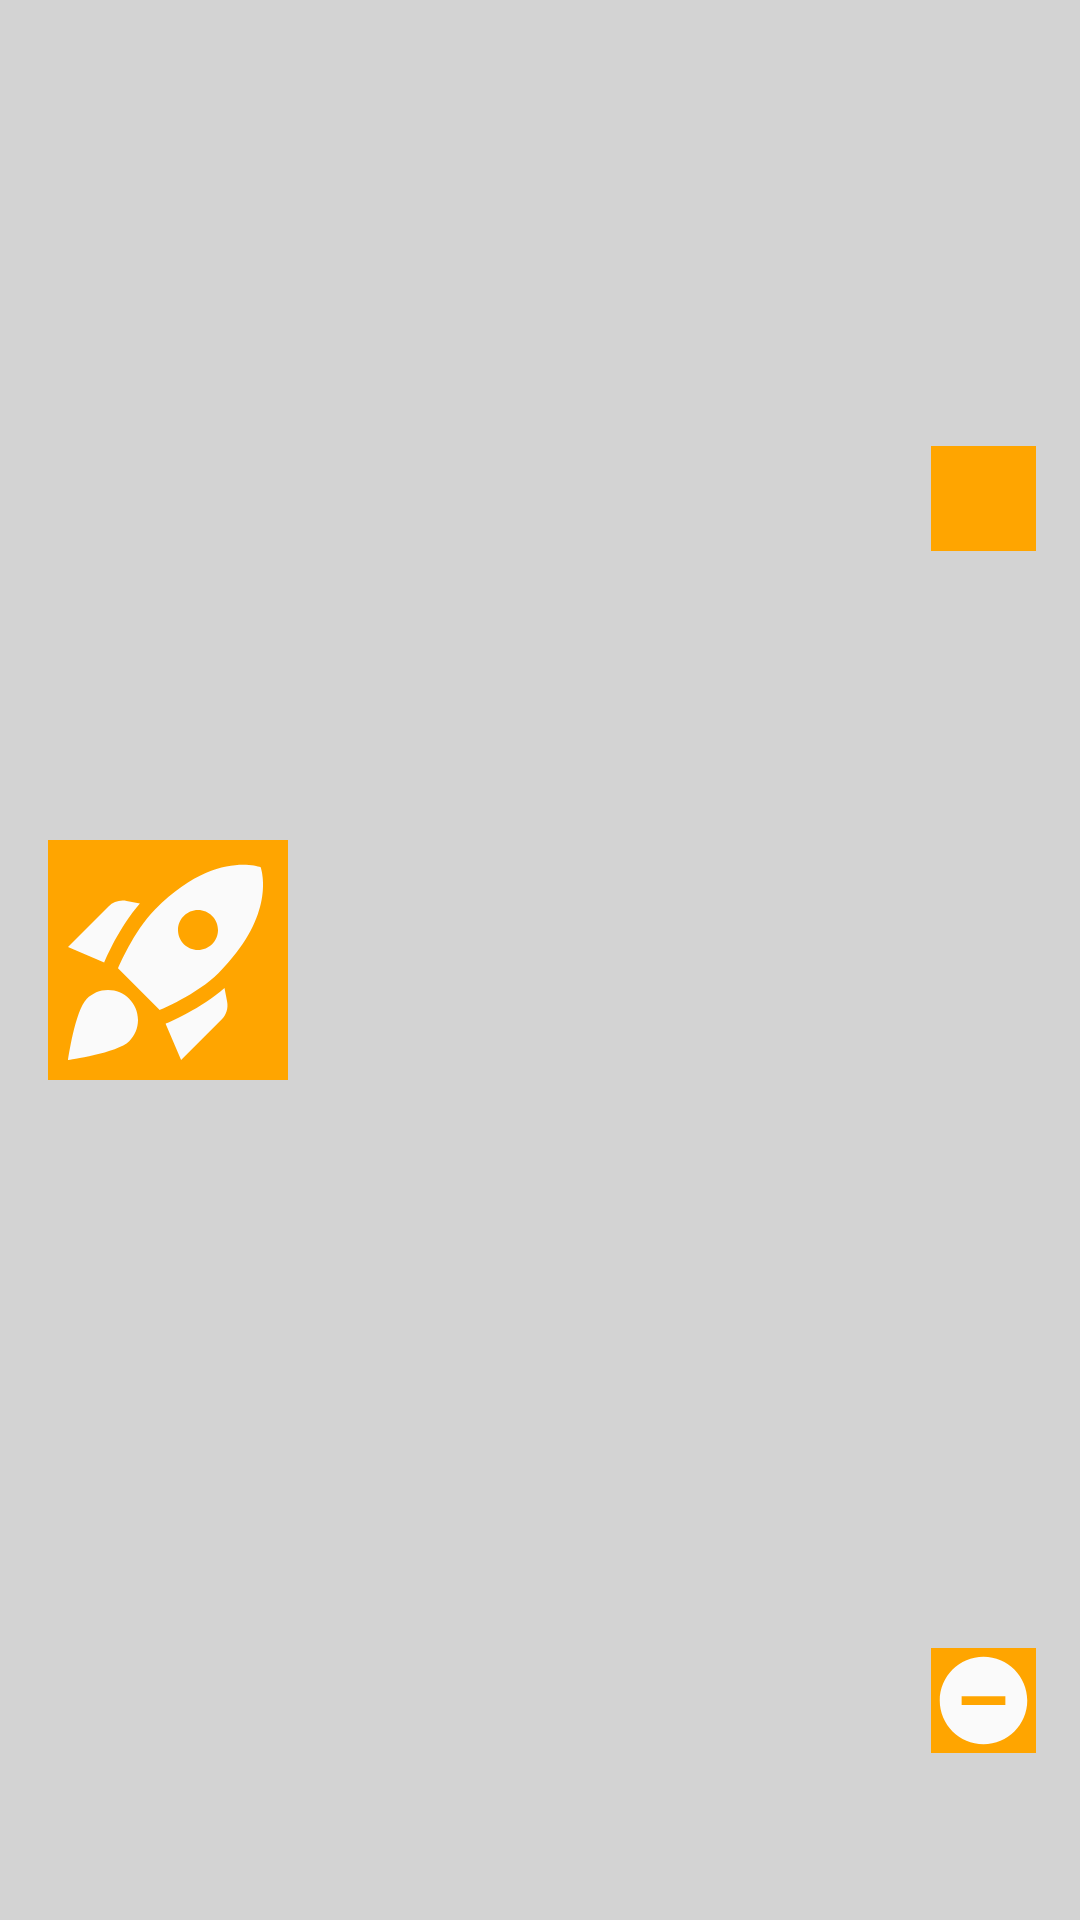

Named icons in this screenshot (1080x1920) and their centers, point (x, y):
delete: point (983, 1700)
